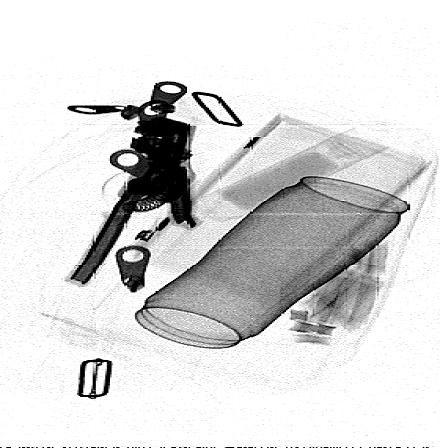Pliers: (64, 117, 196, 287)
